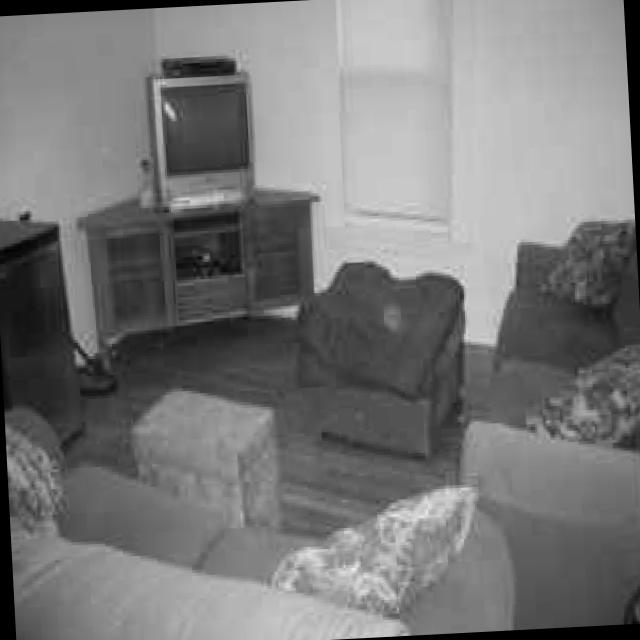2001: (336, 1, 451, 215)
cushion occluded: (276, 484, 478, 608), (528, 352, 640, 443), (541, 217, 633, 306), (15, 414, 66, 528)
floor -X: (13, 320, 640, 640)
furniture crop: (82, 173, 322, 367)
puf: (298, 259, 467, 449), (136, 383, 286, 527)
sofa bed: (461, 237, 640, 624)
sofa cushion: (9, 411, 518, 640)
television cabinet: (149, 66, 255, 206)
wall clock: (158, 0, 640, 347), (0, 8, 186, 406)
